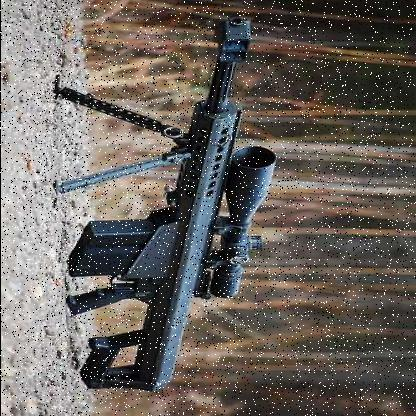rifle: (57, 8, 282, 393)
